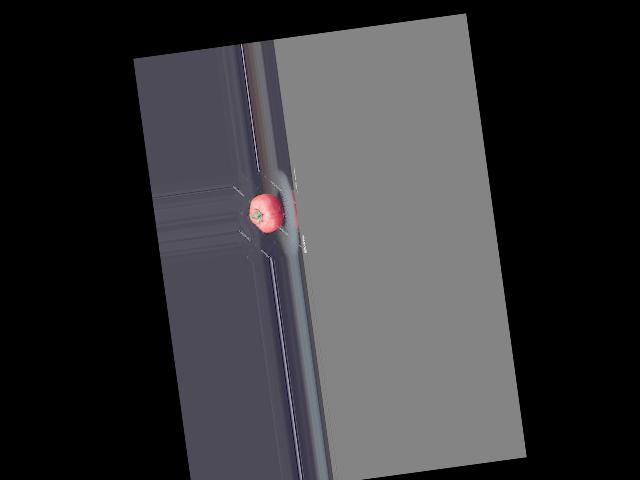tomato: (246, 191, 285, 234)
